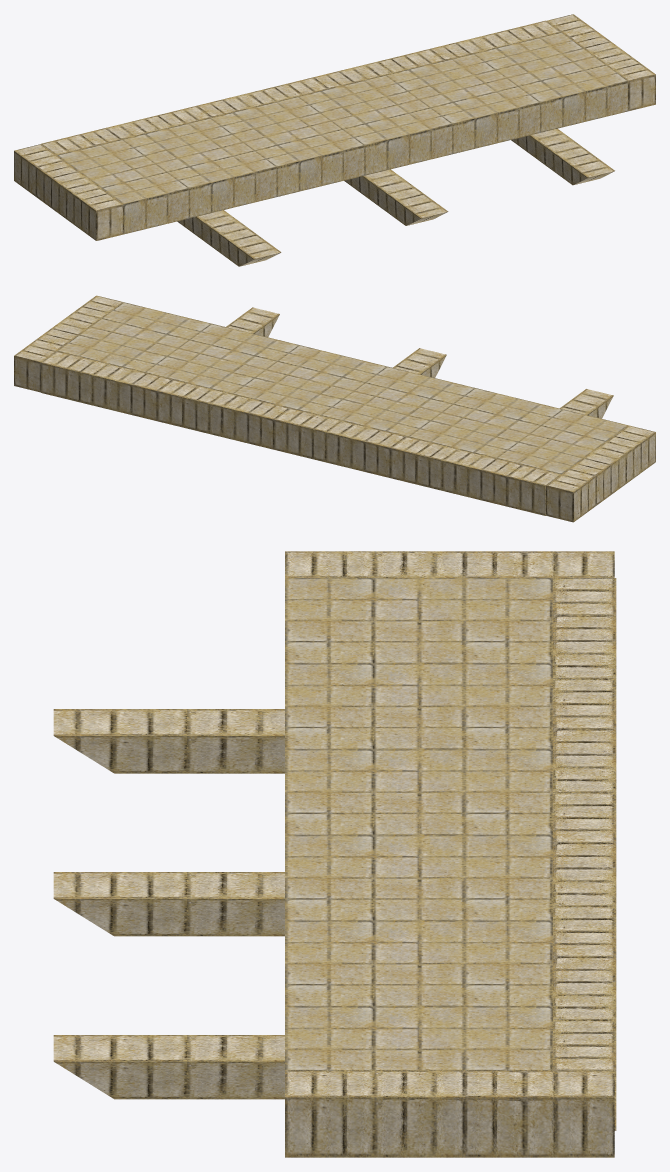
The model's file is bridge_structure_lower_level_addon.dae.
The picture shows the model from 3 angles, top to bottom: view 1: azimuth 30°, elevation 25°; view 2: azimuth 150°, elevation 25°; view 3: azimuth 270°, elevation 25°; orthographic projection. The views are drawn at different scales.
Visible parts, largest first — view 1: bridge_structure_lower_level_addon; view 2: bridge_structure_lower_level_addon; view 3: bridge_structure_lower_level_addon.
Boxes of the visible parts, box(x1,y1,x2,y2) form: bridge_structure_lower_level_addon: box(14, 14, 655, 266); bridge_structure_lower_level_addon: box(14, 295, 655, 522); bridge_structure_lower_level_addon: box(53, 551, 616, 1157).
Size of the model in its own units: 15.09 by 6.57 by 1.26.
Materials: 2 (2 with a texture image).
